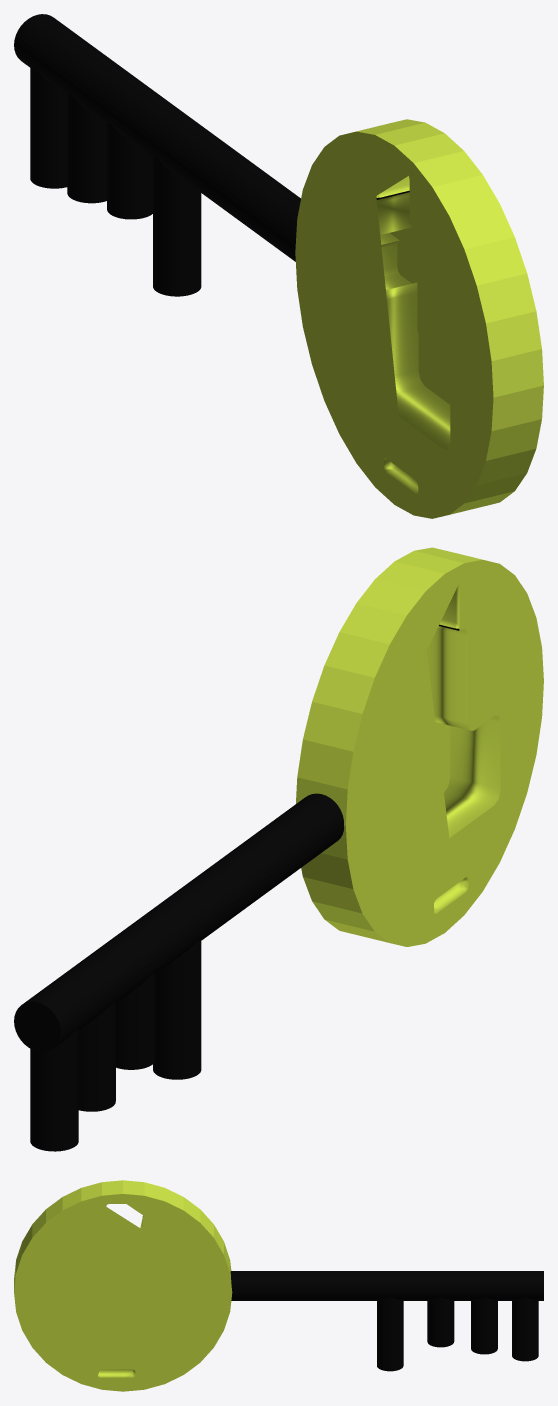
Rendered from key.fbx.
3 renders of one model, top to bottom at view 1: azimuth 30°, elevation 25°; view 2: azimuth 150°, elevation 25°; view 3: azimuth 270°, elevation 25°, orthographic. The views are drawn at different scales.
Visible parts, largest first — view 1: Cylinder; view 2: Cylinder; view 3: Cylinder.
Part boxes in pixels (box(x1,y1,x2,y2)): Cylinder: box(14, 14, 543, 518); Cylinder: box(14, 547, 543, 1151); Cylinder: box(14, 1180, 543, 1391).
Bounding box in the file's own units: 25.34 × 172 × 418.
